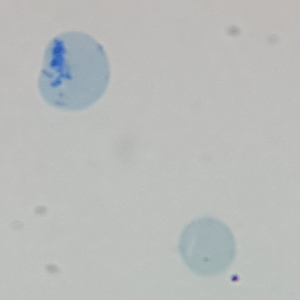aggregate reticulocyte: (35, 28, 113, 112)
punctate reticulocyte: (178, 216, 238, 279)
